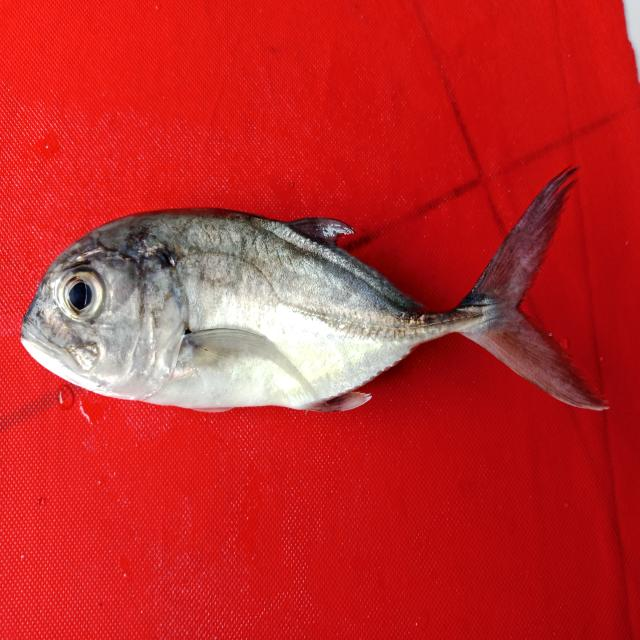ikan: (19, 164, 610, 416)
